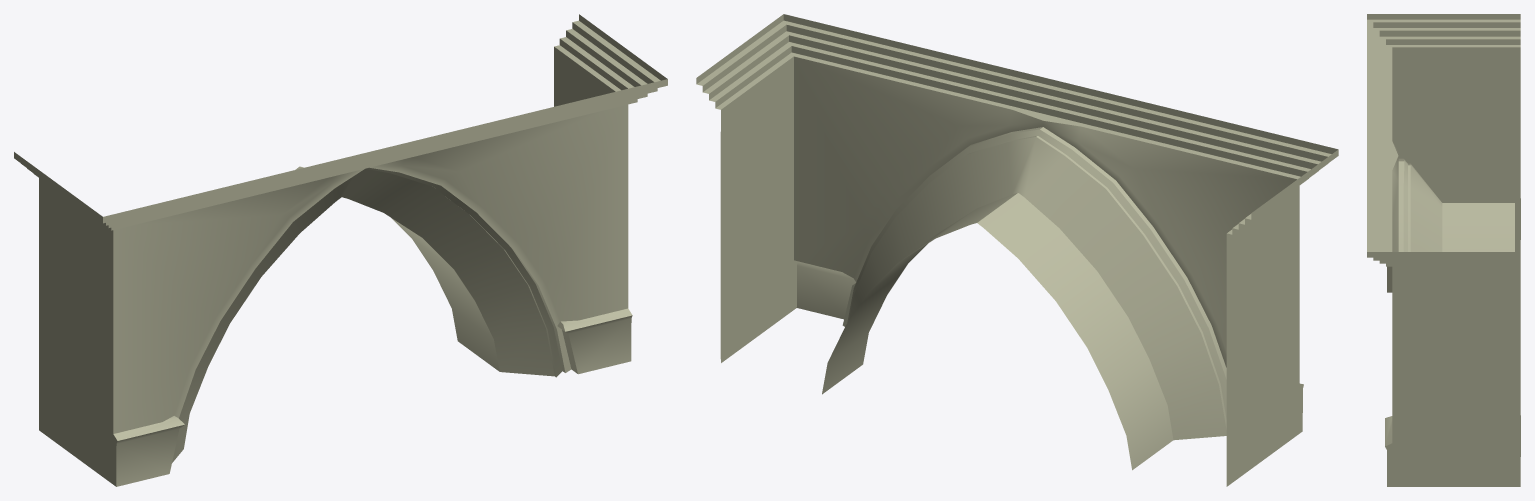
File: SM_gatebase001.fbx
3 views of the same model, side by side, from view 1: azimuth 30°, elevation 25°; view 2: azimuth 150°, elevation 25°; view 3: azimuth 270°, elevation 25° (orthographic). The views are drawn at different scales.
Visible parts, largest first — view 1: SM_gatebase001; view 2: SM_gatebase001; view 3: SM_gatebase001.
Part boxes in pixels (x1,y1,x2,y2): SM_gatebase001: [14, 14, 667, 486]; SM_gatebase001: [696, 14, 1338, 486]; SM_gatebase001: [1367, 14, 1520, 486].
Size of the model in its own units: 1598 by 796 by 437.
